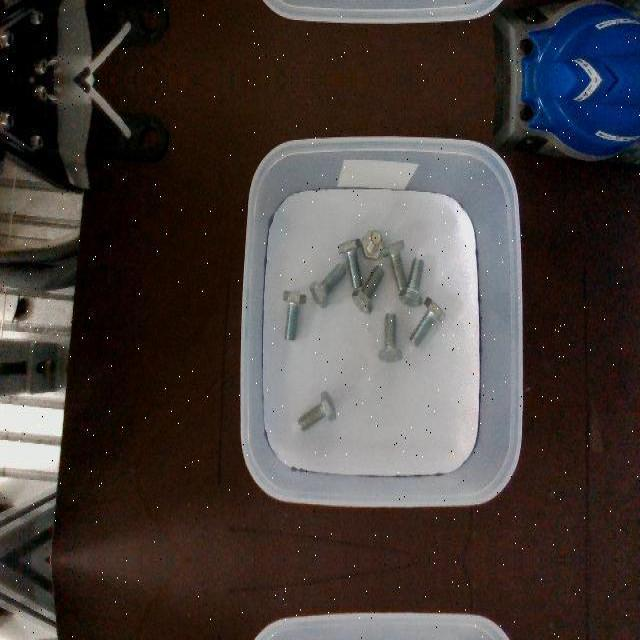screw: (409, 296, 446, 346), (310, 263, 347, 309), (297, 390, 336, 432), (351, 264, 385, 312), (338, 237, 363, 287), (399, 257, 424, 307), (378, 314, 402, 362), (283, 289, 306, 339), (362, 229, 385, 259)
